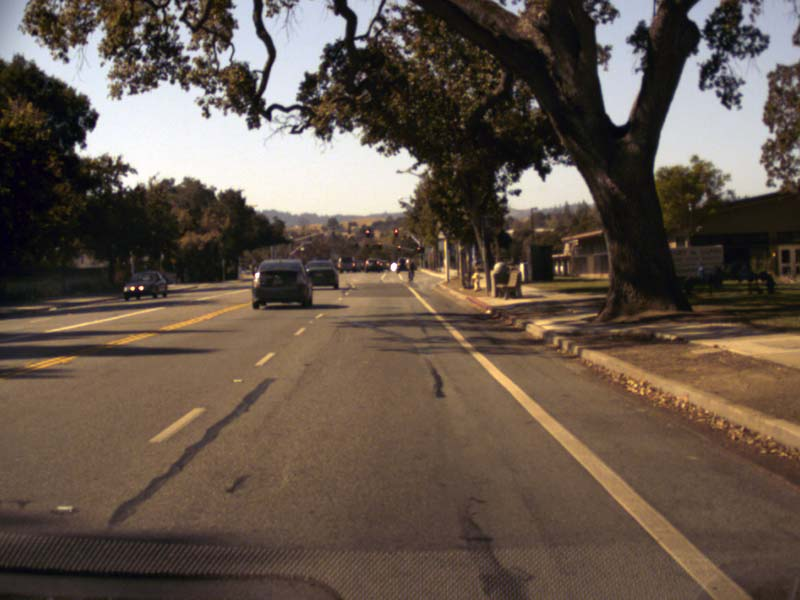Red: (393, 228, 398, 236), (365, 229, 369, 237), (416, 245, 420, 251), (396, 244, 400, 249)
Yellow: (376, 241, 381, 246)
